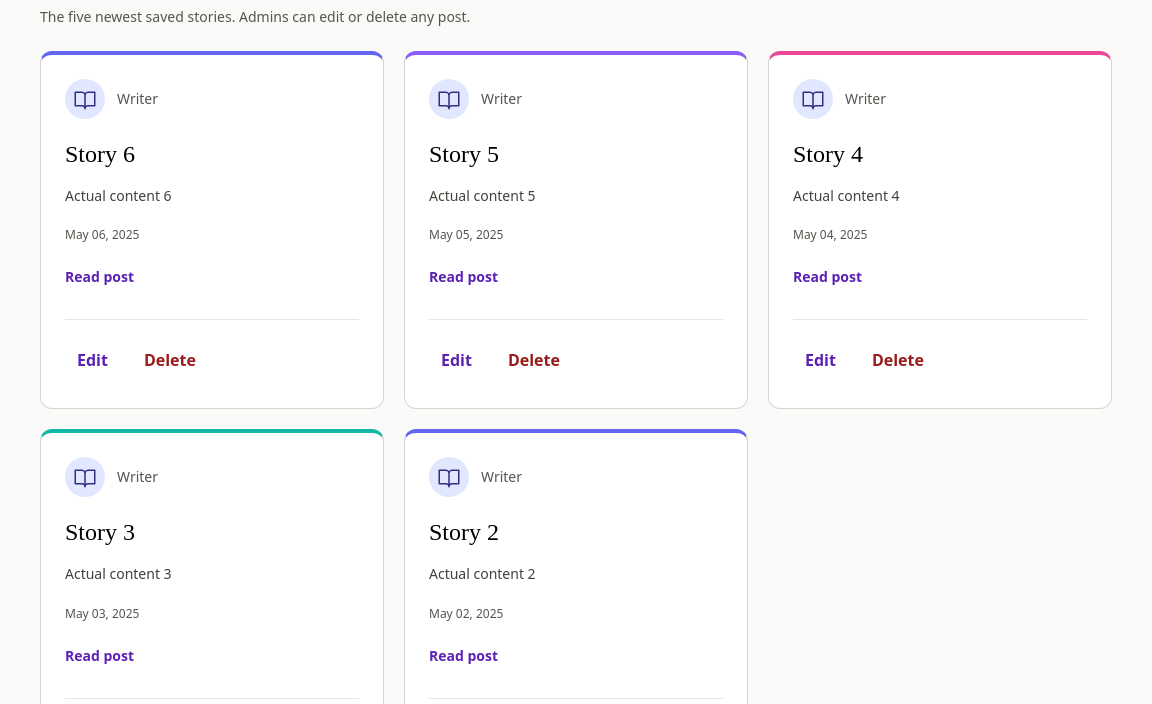
AdminDashboard › preserves rendered activity after operation-time corrupt posts
The width and height of the screenshot is (1152, 704).
(page scrolled)
Click the button "Delete" below "May 06, 2025" at x=170, y=360, box x1=132 y1=336 x2=208 y2=384
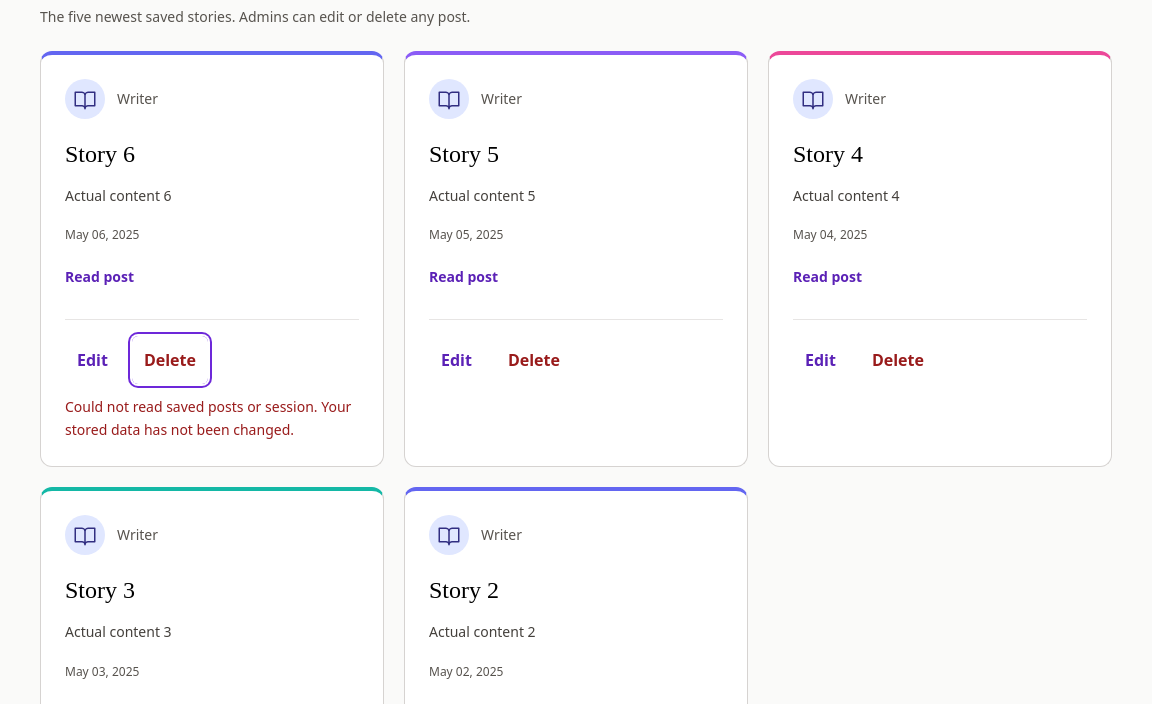
Check: the heading "Story 6" is shown, box x1=65 y1=140 x2=135 y2=166
Check: the message shows "Could not read", box x1=65 y1=397 x2=351 y2=439
